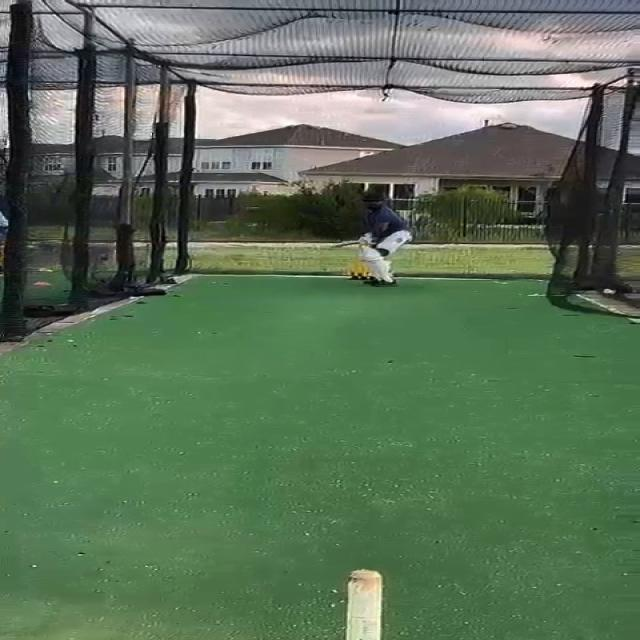batsman: (328, 192, 415, 287)
